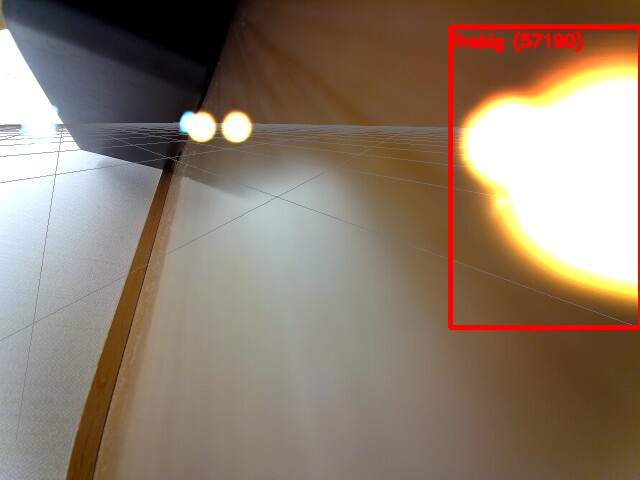firebig: (450, 26, 640, 327)
